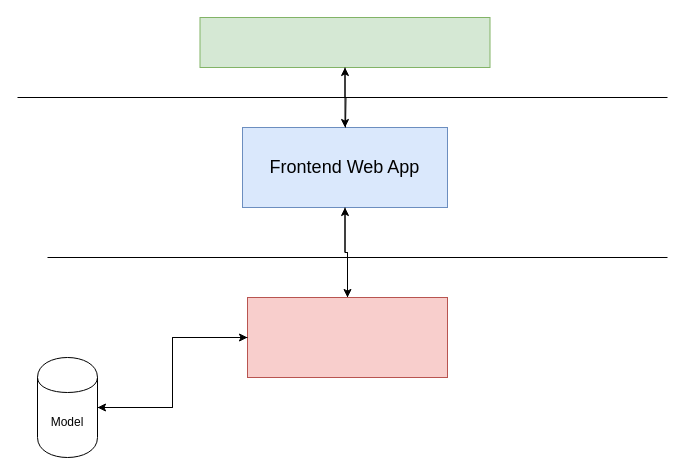
The diagram is 686 pixels wide and 475 high, and some of its shapes have lost their labels. The shapes that lost their labels are listed below. From the top down, each one's centre as x and y in pixels, then its label:
At [344,42]: "Browse/App".
At [347,337]: "Backend Data Service".
